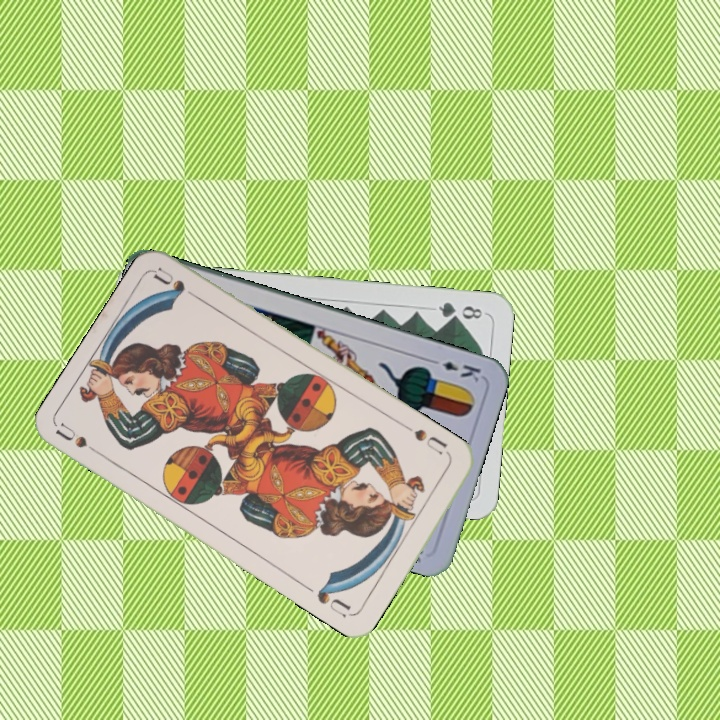EK: (425, 355, 484, 385)
G8: (434, 298, 485, 323)
SU: (53, 419, 108, 461), (410, 425, 450, 458)
